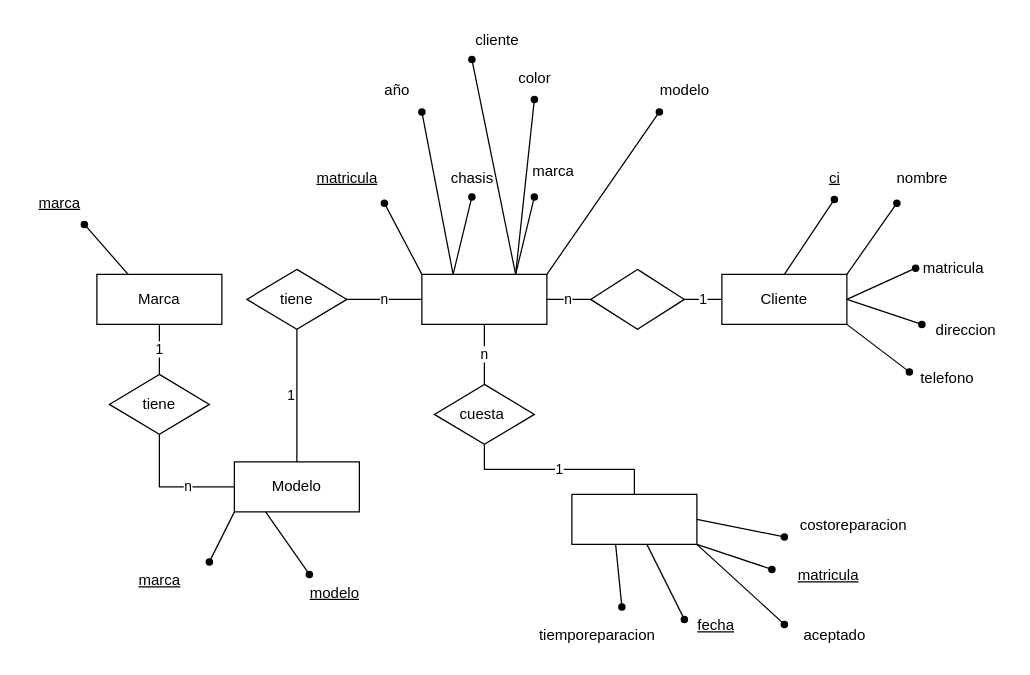
This 1030x675 diagram has some shape labels left out. Here are the shapes that lost their labels. From the top down, the box of each, then its label:
(421, 273, 547, 324): Auto
(589, 268, 684, 329): pertenece
(571, 493, 697, 544): Presupuesto
